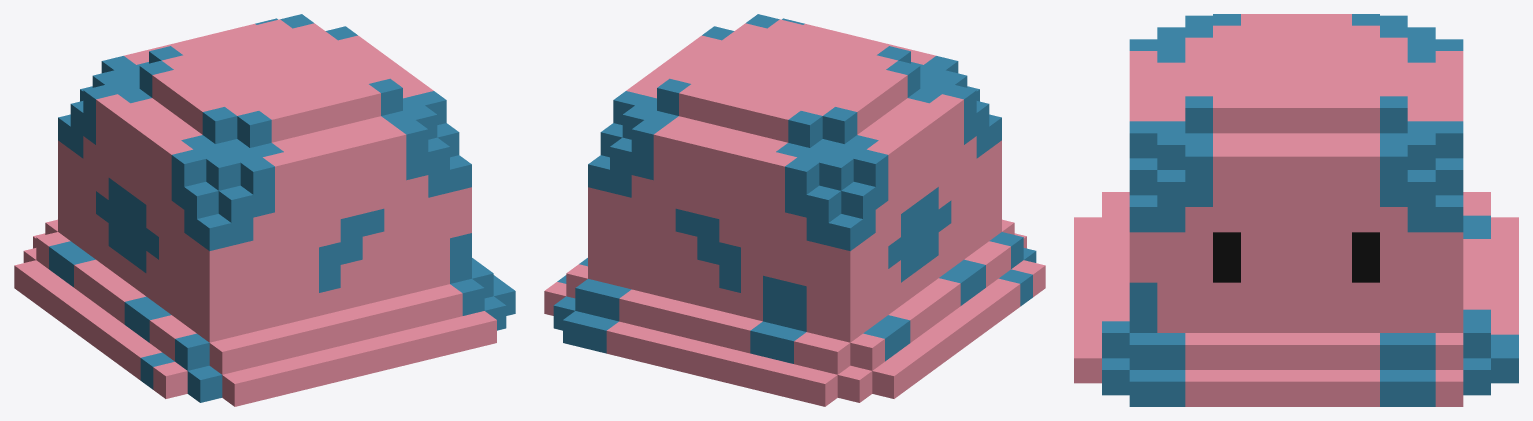
The model's file is slimesad.obj.
The picture shows the model from 3 angles, left to right: view 1: azimuth 30°, elevation 25°; view 2: azimuth 150°, elevation 25°; view 3: azimuth 270°, elevation 25°; orthographic projection. The views are drawn at different scales.
Bounding box in the file's own units: 1.6 × 1 × 1.6.
1 material, 1 textured.
